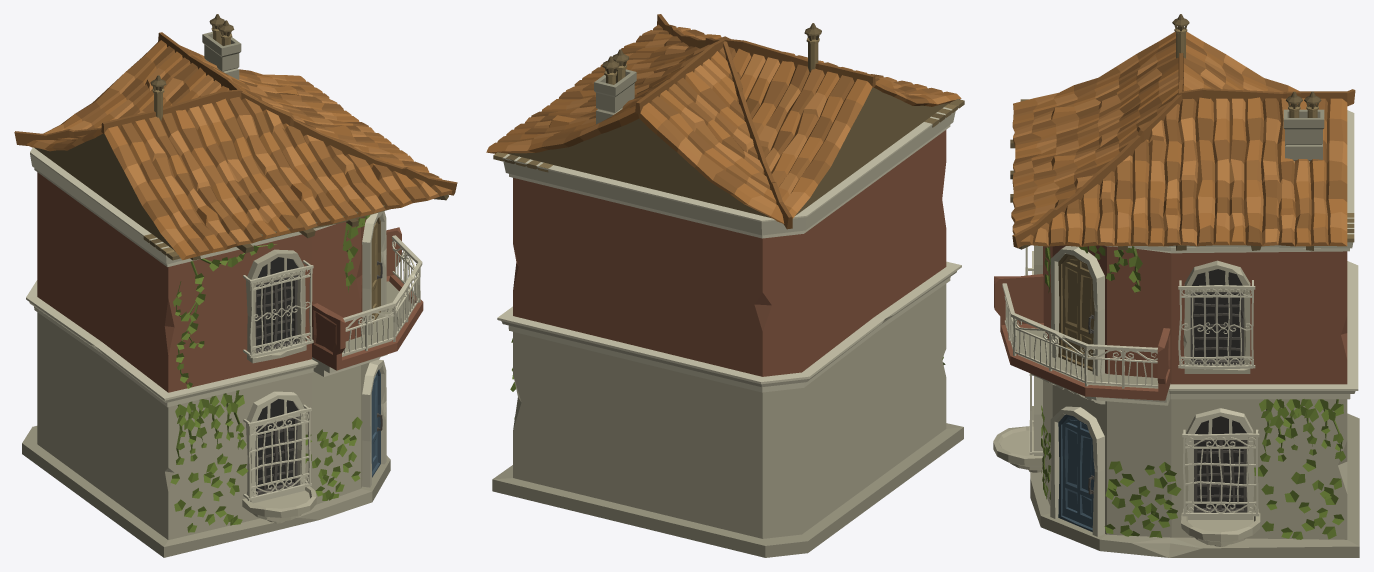
Rendered from Building_4.fbx.
The picture shows the model from 3 angles, left to right: view 1: azimuth 30°, elevation 25°; view 2: azimuth 150°, elevation 25°; view 3: azimuth 270°, elevation 25°; orthographic projection. The views are drawn at different scales.
Parts seen in each view (by area): view 1: Building_4; view 2: Building_4; view 3: Building_4.
Boxes of the visible parts, x1=… form: Building_4: x1=14, y1=14, x2=457, y2=557; Building_4: x1=486, y1=14, x2=964, y2=557; Building_4: x1=993, y1=14, x2=1359, y2=557.
Bounding box in the file's own units: 728 × 958 × 728.
